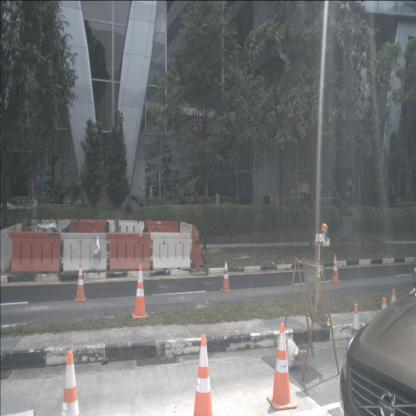human-pedestrian-adult: (215, 190, 220, 211)
movable_object-barrier: (9, 232, 63, 273), (60, 232, 111, 271), (107, 233, 152, 270), (150, 232, 192, 270), (0, 223, 23, 274), (29, 219, 71, 246), (107, 219, 145, 247), (71, 219, 107, 247), (145, 220, 179, 247), (190, 226, 203, 267), (179, 222, 194, 257)
movable_object-trafficcone: (184, 334, 219, 416), (267, 322, 297, 410), (57, 350, 85, 416), (348, 303, 365, 365), (131, 265, 149, 319), (378, 297, 391, 355), (388, 288, 400, 346), (74, 264, 86, 302), (221, 260, 232, 292), (331, 254, 341, 283)
vehicle-car: (340, 263, 415, 415)
